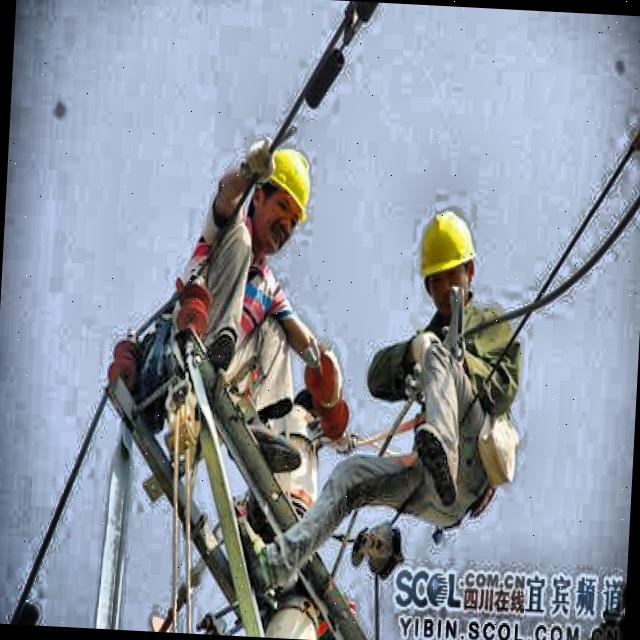helmet: (410, 200, 482, 322), (252, 140, 322, 256)
